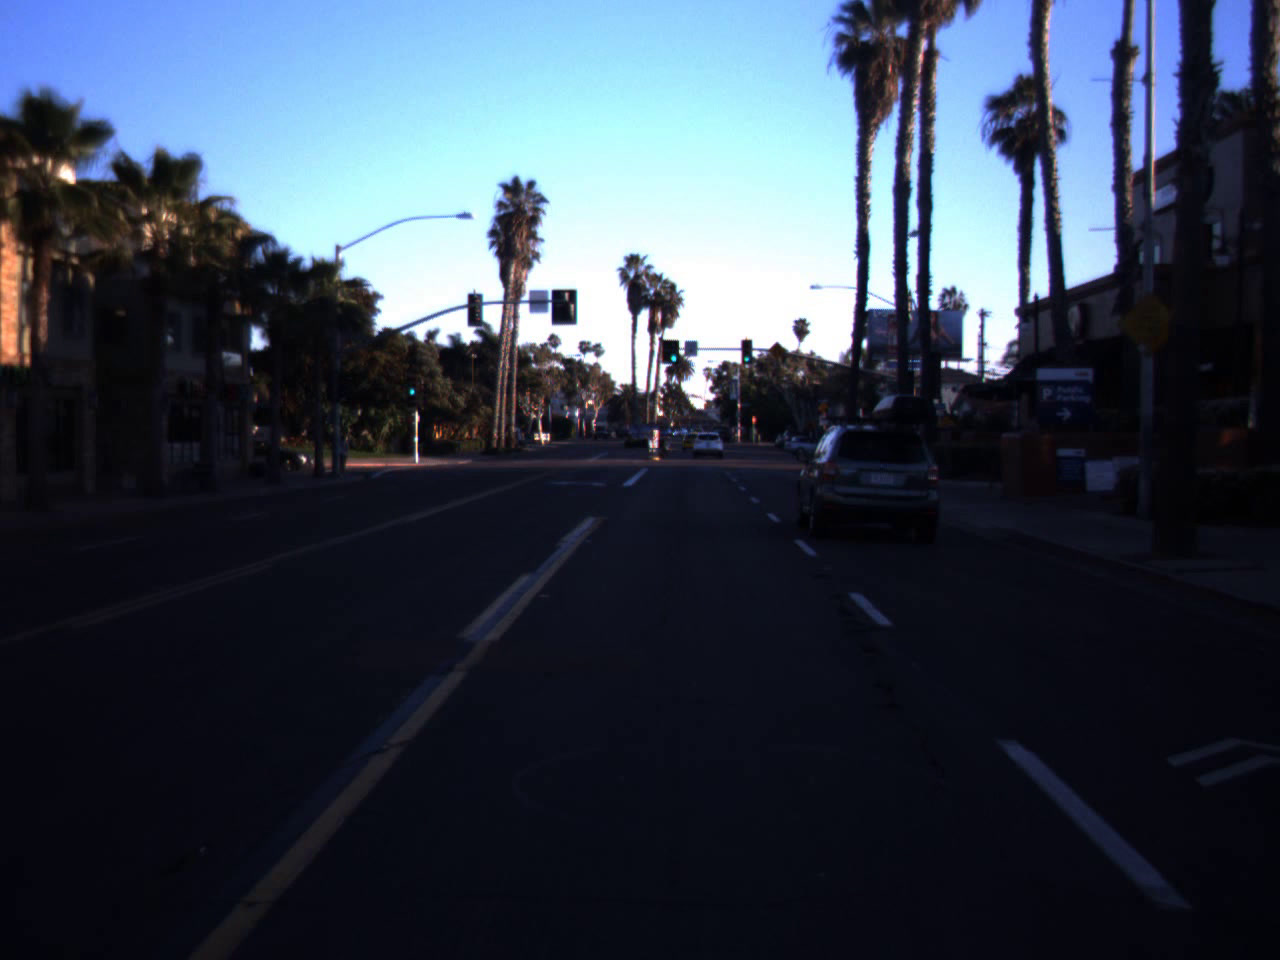go: (668, 338, 680, 363), (406, 376, 418, 396)
